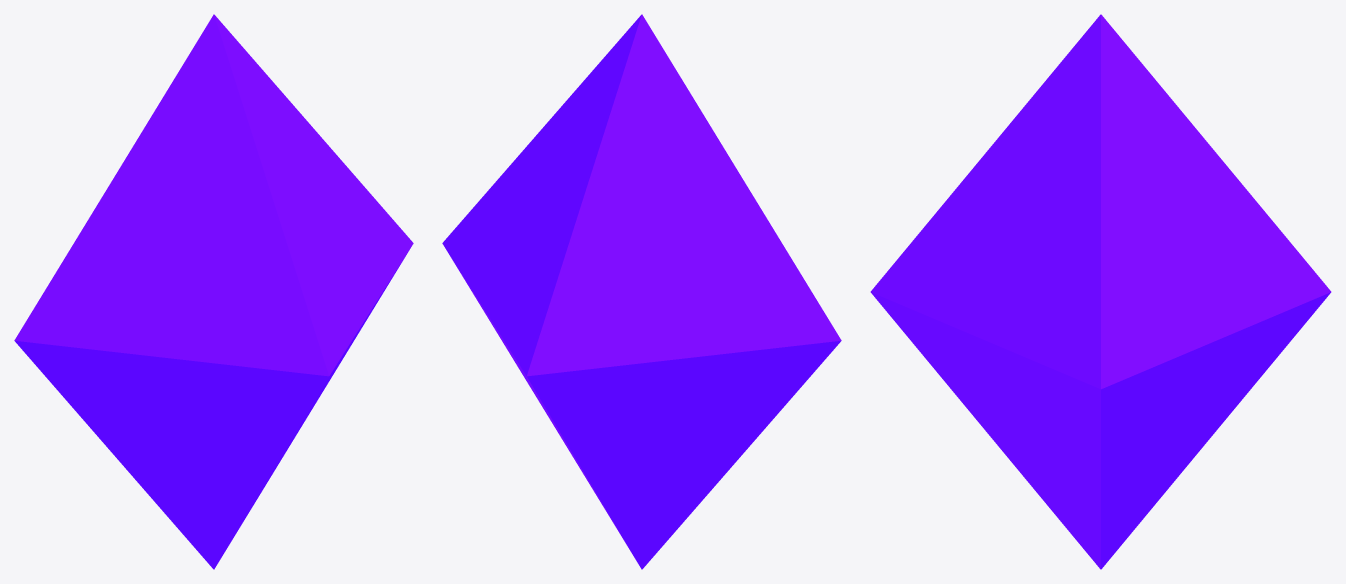
The model's file is blue_gem.fbx.
3 views of the same model, side by side, from view 1: azimuth 30°, elevation 25°; view 2: azimuth 150°, elevation 25°; view 3: azimuth 270°, elevation 25° (orthographic).
Visible parts, largest first — view 1: Plane; view 2: Plane; view 3: Plane.
Part boxes in pixels (x1,y1,x2,y2): Plane: [14, 14, 413, 569]; Plane: [442, 14, 841, 569]; Plane: [870, 14, 1331, 569].
Bounding box in the file's own units: 2 × 2.66 × 2.
